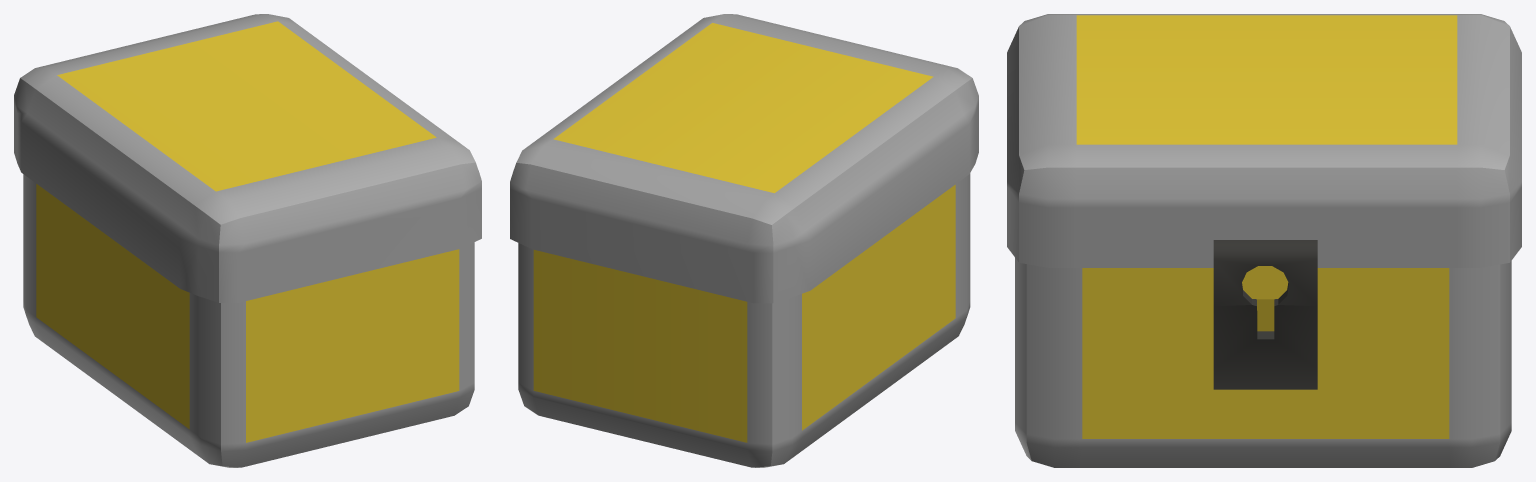
3 views of the same model, side by side, from view 1: azimuth 30°, elevation 25°; view 2: azimuth 150°, elevation 25°; view 3: azimuth 270°, elevation 25° (orthographic). The views are drawn at different scales.
Parts seen in each view (by area): view 1: pCube10, pCube11; view 2: pCube10, pCube11; view 3: pCube10, pCube11.
Part boxes in pixels (x1,y1,x2,y2): pCube10: [14, 14, 481, 302]; pCube11: [23, 174, 474, 467]; pCube10: [510, 14, 978, 303]; pCube11: [518, 173, 970, 467]; pCube10: [1007, 14, 1521, 267]; pCube11: [1015, 240, 1511, 467].
Size of the model in its own units: 142 by 123 by 177.
